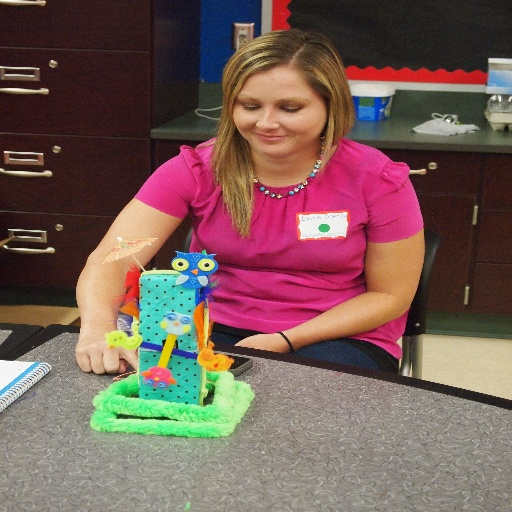hand: (73, 331, 142, 372), (233, 332, 289, 353)
